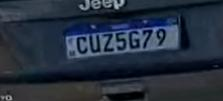Placa_mercosul_carro: (63, 14, 181, 60)
